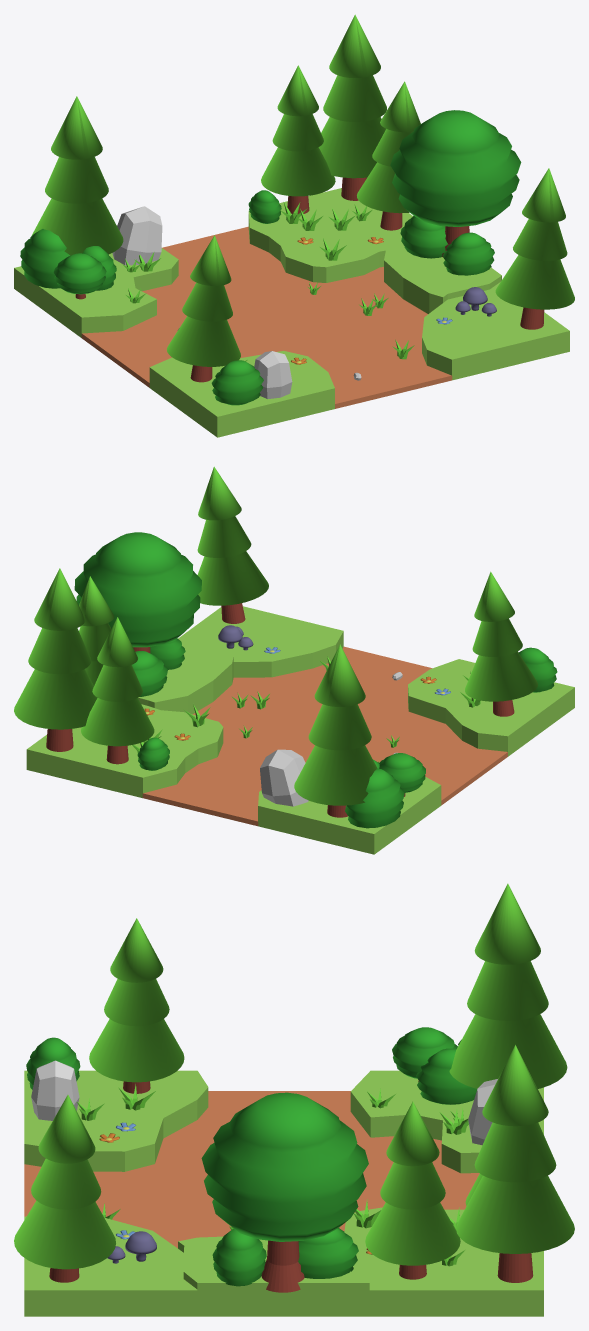
File: jungle level set - 3 Way (2).fbx
3 renders of one model, top to bottom at view 1: azimuth 30°, elevation 25°; view 2: azimuth 150°, elevation 25°; view 3: azimuth 270°, elevation 25°, orthographic. The views are drawn at different scales.
Parts seen in each view (by area): view 1: land_platform, tree_003, tree_001, tree_006, tree_007, tree, tree_005, tree_002, stone_001, bush_003, bush_005, bush_004 (+5 smaller); view 2: land_platform, tree_003, tree_001, tree_006, tree_007, tree, tree_005, bush_003, stone_001, tree_002, tree_004, bush (+3 smaller); view 3: land_platform, tree_003, tree_001, tree_006, tree_007, tree_002, tree_005, bush_004, bush, stone, bush_001, tree_004 (+3 smaller).
Part boxes in pixels (x1,y1,x2,y2): land_platform: (14,188,569,437); tree_003: (390,110,521,257); tree_001: (318,14,386,200); tree_006: (31,96,123,255); tree_007: (495,168,574,329); tree: (261,65,335,213); tree_005: (167,235,240,382); tree_002: (357,81,420,230); stone_001: (112,206,162,265); bush_003: (20,229,70,288); bush_005: (211,360,263,405); bush_004: (442,232,494,275); land_platform: (26,606,574,854); tree_003: (74,532,201,653); tree_001: (14,568,97,751); tree_006: (294,644,377,817); tree_007: (197,466,268,623); tree: (81,617,154,764); tree_005: (465,571,537,716); bush_003: (345,768,404,828); stone_001: (260,749,308,806); tree_002: (79,576,114,685); tree_004: (379,753,425,796); bush: (132,651,167,696); land_platform: (24,1070,543,1316); tree_003: (201,1092,368,1292); tree_001: (456,1045,574,1282); tree_006: (449,883,567,1088); tree_007: (14,1095,115,1282); tree_002: (365,1101,460,1279); tree_005: (89,918,184,1093); bush_004: (212,1228,266,1286); bush: (298,1228,358,1278); stone: (31,1060,79,1120); bush_001: (416,1048,477,1104); tree_004: (392,1027,457,1081).
Bounding box in the file's own units: 17.38 × 8.53 × 16.38.
